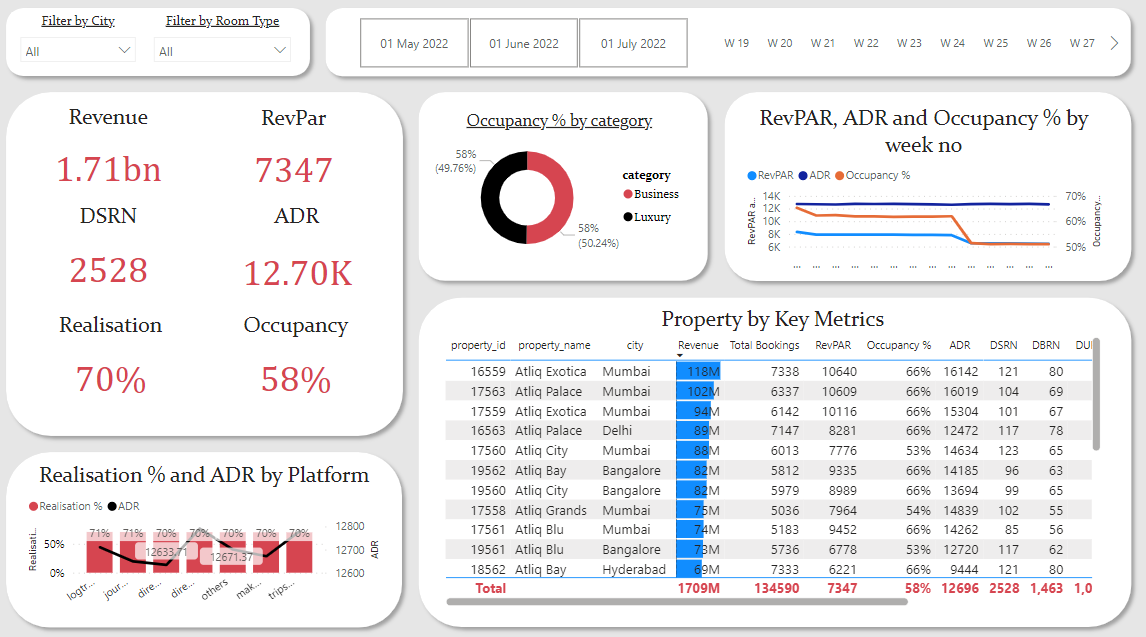

What the dashboard file says about the page in this screenshot:
{"tool":"powerbi","page":{"name":"Dashboard","canvas":[1280,720],"ordinal":0},"visuals":[{"type":"shape","box":[0,0,355.6,93.3],"z":0},{"type":"slicer","title":"Filter by Room Type","fields":{"Values":["Dim Room.room_class"]},"box":[163.3,13.3,172.2,61.1],"z":1000},{"type":"slicer","title":"Filter by City","fields":{"Values":["Dim Hotels.city"]},"box":[15.6,13.3,147.8,61.1],"z":2000},{"type":"shape","box":[0,93.3,458.9,400],"z":3000},{"type":"card","title":"Revenue","fields":{"Values":["Key Metrics.Revenue"]},"box":[28.2,115.5,188.2,110],"z":3001},{"type":"card","title":"RevPar","fields":{"Values":["Key Metrics.RevPAR"]},"box":[230,115.8,196.7,110],"z":3002},{"type":"card","title":"DSRN","fields":{"Values":["Key Metrics.DSRN"]},"box":[15.5,225.5,214.5,113.6],"z":3003},{"type":"card","title":"ADR","fields":{"Values":["Key Metrics.ADR"]},"box":[229.1,225.5,207.3,120.9],"z":3004},{"type":"card","title":"Realisation","fields":{"Values":["Key Metrics.Realisation %"]},"box":[20,346.4,210,114.5],"z":3005},{"type":"card","title":"Occupancy","fields":{"Values":["Key Metrics.Occupancy %"]},"box":[229.1,347.3,204.5,113.6],"z":3006},{"type":"shape","box":[355.5,0,912.7,93.6],"z":3007},{"type":"slicer","fields":{"Values":["Dim Date.mmm yy"]},"box":[376.7,13.3,413.3,68.3],"z":3008},{"type":"slicer","fields":{"Values":["Dim Date.week no"]},"box":[771,16,480,61],"z":3009},{"type":"shape","box":[458.3,93.3,339.2,227.5],"z":3010},{"type":"donutChart","fields":{"Category":["Dim Hotels.category"],"Y":["Key Metrics.Occupancy %"]},"box":[477,121,294,172],"z":3011},{"type":"shape","box":[458,322,810,384],"z":3012},{"type":"tableEx","title":"Property by Key Metrics","fields":{"Values":["Dim Hotels.property_id","Dim Hotels.property_name","Dim Hotels.city","Key Metrics.Revenue","Key Metrics.Total Bookings","Key Metrics.RevPAR","Key Metrics.Occupancy %","Key Metrics.ADR","Key Metrics.DSRN","Key Metrics.DBRN","Key Metrics.DURN","Key Metrics.Realisation %"]},"box":[492,340,738,338],"z":3013},{"type":"shape","box":[798,94,470,228],"z":3014},{"type":"lineChart","fields":{"Y":["Key Metrics.RevPAR","Key Metrics.ADR"],"Category":["Dim Date.week no"],"Y2":["Key Metrics.Occupancy %"]},"box":[826,116,404,192],"z":3015},{"type":"shape","box":[0,493,458,213],"z":3016},{"type":"lineStackedColumnComboChart","title":"Realisation % and ADR by Platform","fields":{"Category":["Fact Bookings.booking_platform"],"Y":["Key Metrics.Realisation %"],"Y2":["Key Metrics.ADR"]},"box":[27.8,513.3,401.1,166.7],"z":3017}]}

Visuals, with their boxes in screenshot pixels (x1, y1, x2, y2), scaled from the page's 1280x720 canvas onto the 1146x637 screenshot:
shape: [0,0,318,83]
"Filter by Room Type" slicer: [146,12,300,66]
"Filter by City" slicer: [14,12,146,66]
shape: [0,83,411,436]
"Revenue" card: [25,102,194,200]
"RevPar" card: [206,102,382,200]
"DSRN" card: [14,200,206,300]
"ADR" card: [205,200,391,306]
"Realisation" card: [18,306,206,408]
"Occupancy" card: [205,307,388,408]
shape: [318,0,1135,83]
slicer - Dim Date.mmm yy: [337,12,707,72]
slicer - Dim Date.week no: [690,14,1120,68]
shape: [410,83,714,284]
donutChart - Dim Hotels.category x Key Metrics.Occupancy %: [427,107,690,259]
shape: [410,285,1135,625]
"Property by Key Metrics" tableEx: [440,301,1101,600]
shape: [714,83,1135,285]
lineChart - Key Metrics.RevPAR x Key Metrics.ADR: [740,103,1101,272]
shape: [0,436,410,625]
"Realisation % and ADR by Platform" lineStackedColumnComboChart: [25,454,384,602]
